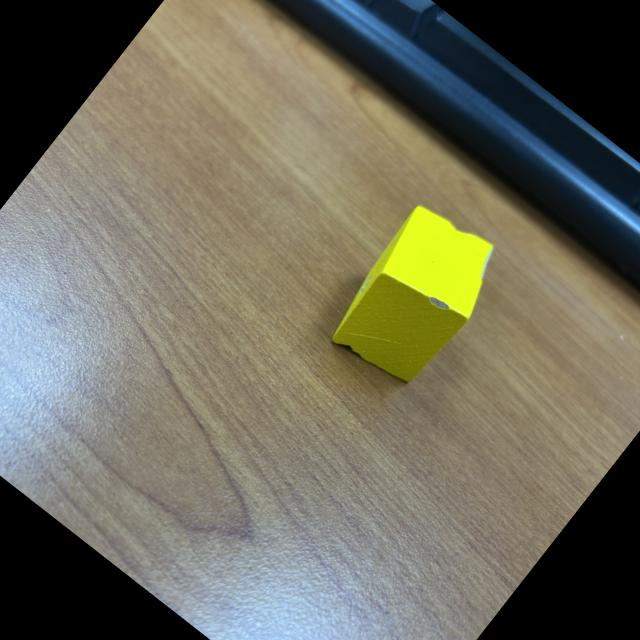broken: (316, 193, 514, 402)
